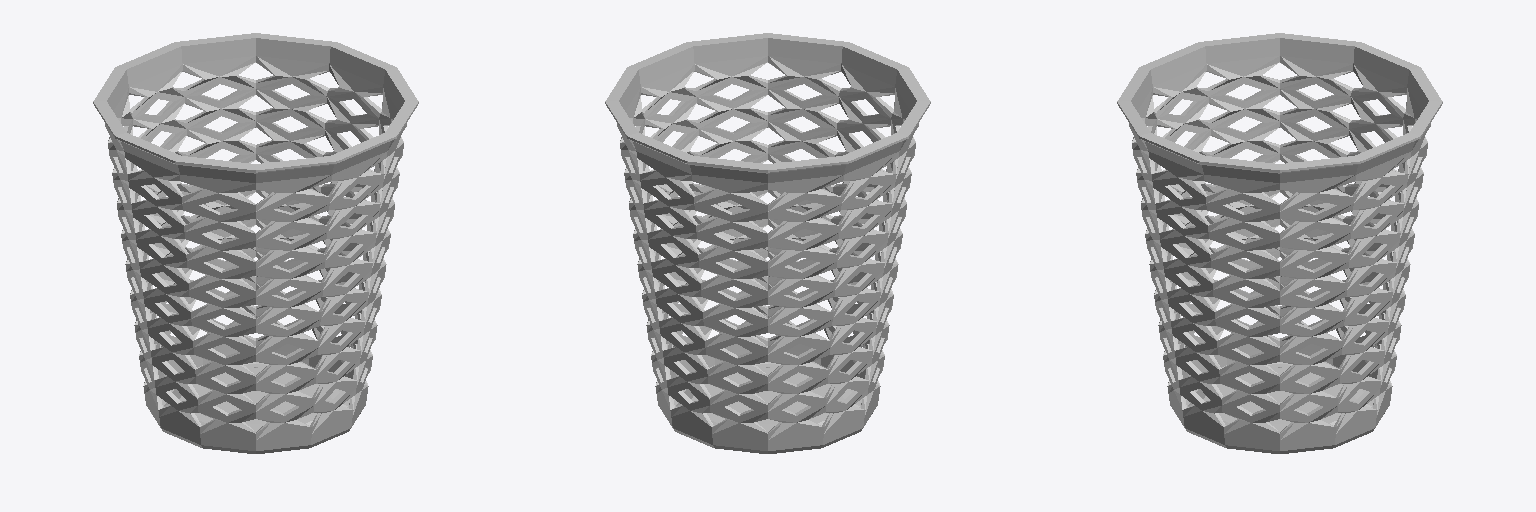
File: bin.obj
The picture shows the model from 3 angles: view 1: azimuth 30°, elevation 25°; view 2: azimuth 150°, elevation 25°; view 3: azimuth 270°, elevation 25°; orthographic projection.
Parts seen in each view (by area): view 1: atlasing.007; view 2: atlasing.007; view 3: atlasing.007.
Boxes of the visible parts, box(x1,y1,x2,y2) form: atlasing.007: box(93, 33, 418, 453); atlasing.007: box(605, 33, 930, 453); atlasing.007: box(1117, 33, 1442, 453).
Size of the model in its own units: 0.4487 by 0.4712 by 0.4487.